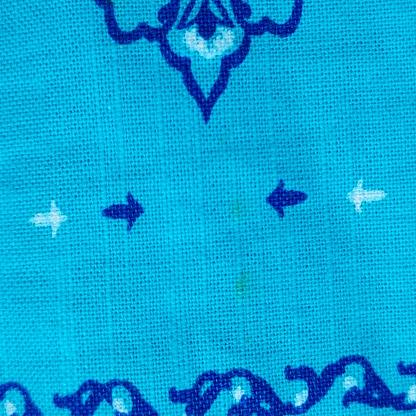spot: (233, 266, 251, 295), (228, 193, 242, 216)
